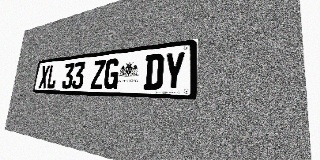3: (71, 62, 86, 89), (61, 63, 75, 89)
D: (143, 53, 164, 90)
G: (103, 58, 120, 89)
L: (46, 64, 58, 89)
X: (38, 65, 50, 89)
Y: (163, 51, 186, 90)
Z: (90, 59, 106, 89)
